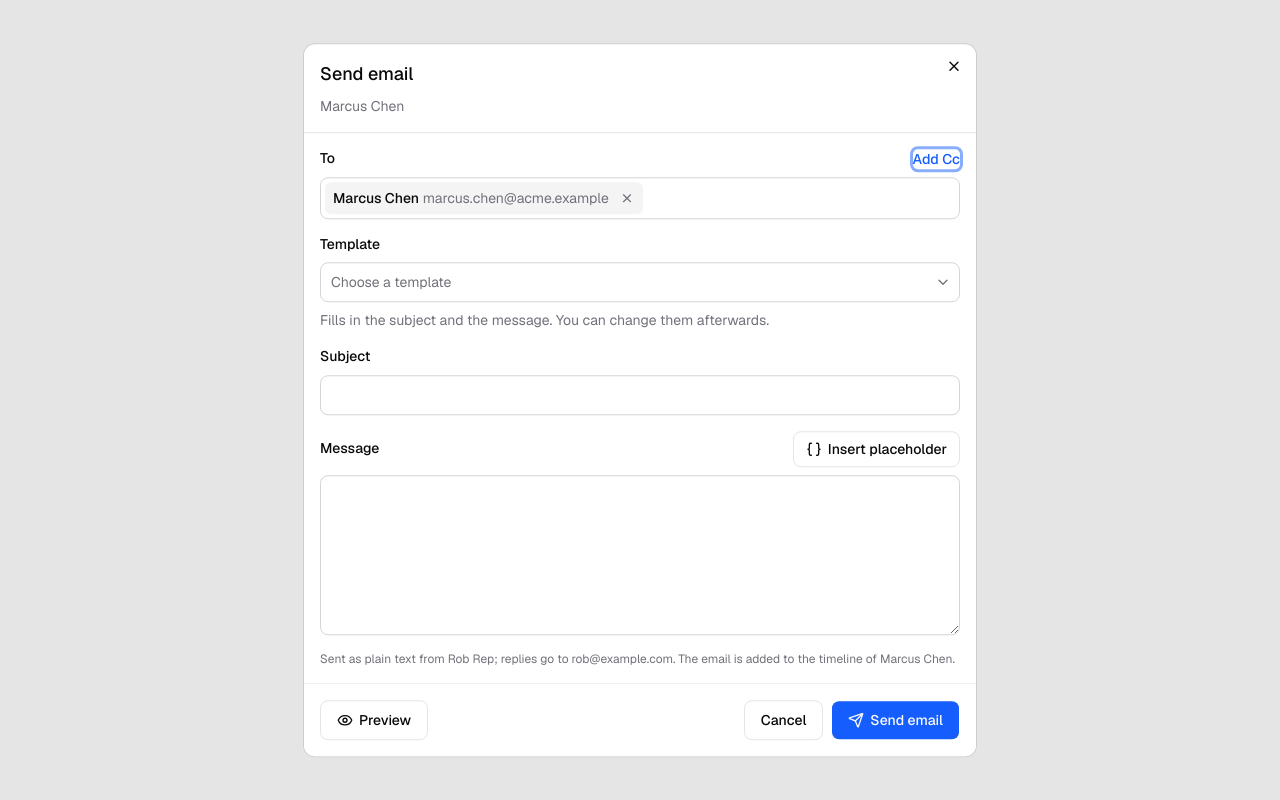
Test: SendEmailDialog › templates › lists the user's templates and marks the shared ones of other people
The width and height of the screenshot is (1280, 800).
Expected: the dialog is shown, [304,44,976,756]
Click the dropdown labelled "template" at [391, 282], box [320,262,960,302]
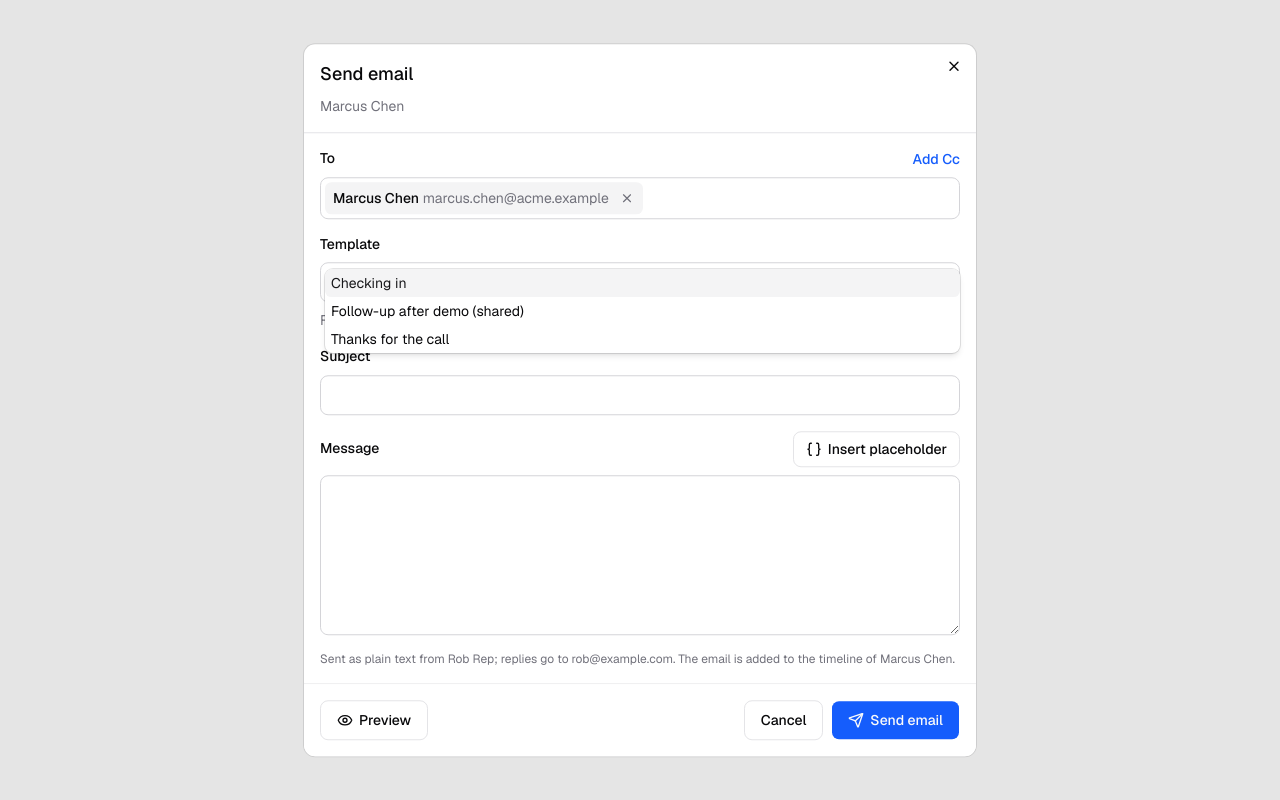
Now the options read "Checking in", "Follow-up after demo (shared)", "Thanks for the call", in this order, box [325,268,960,296]; [331,302,524,320]; [331,330,449,348]
